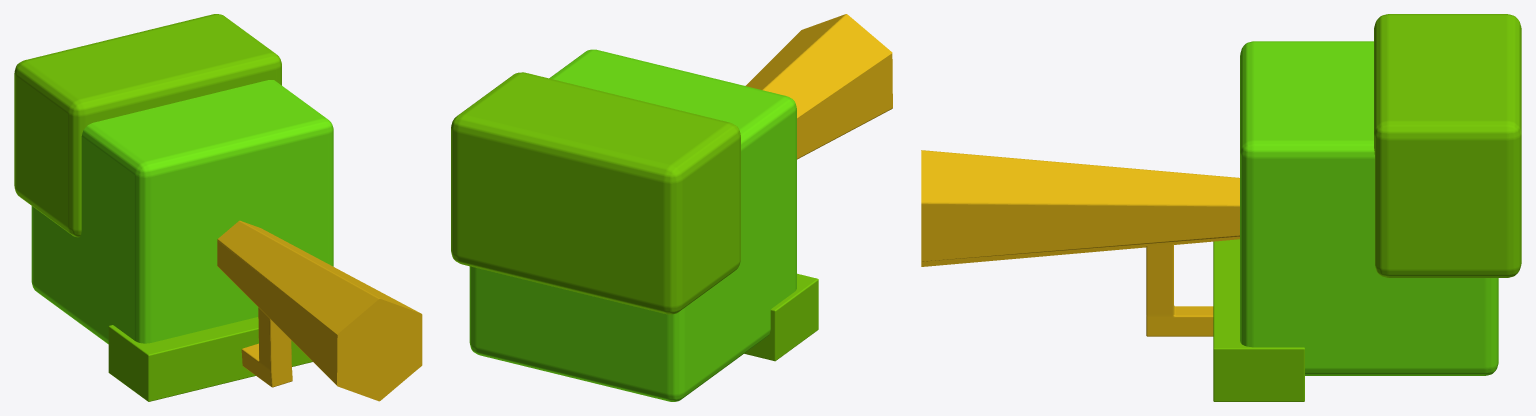
Rendered from blocktree2.fbx.
3 renders of one model, left to right at view 1: azimuth 30°, elevation 25°; view 2: azimuth 150°, elevation 25°; view 3: azimuth 270°, elevation 25°, orthographic. The views are drawn at different scales.
Parts seen in each view (by area): view 1: Cube.000; view 2: Cube.000; view 3: Cube.000.
Part boxes in pixels (x1,y1,x2,y2): Cube.000: (14, 14, 422, 401); Cube.000: (451, 14, 892, 401); Cube.000: (921, 14, 1521, 401).
Size of the model in its own units: 17.23 by 19.01 by 37.14.
